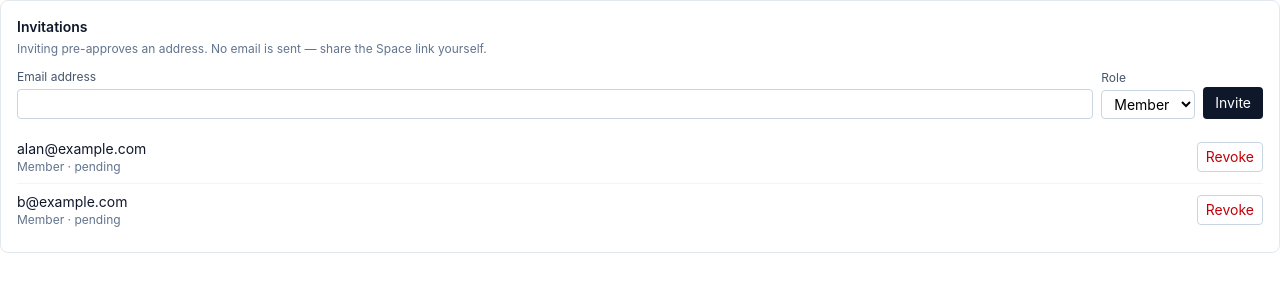
Test: InvitationsPanel › keeps a failed revoke next to its own row
The image size is (1280, 294).
Click the button with test id "invitation-revoke-20": [1230, 157] box [1197,142,1263,172]
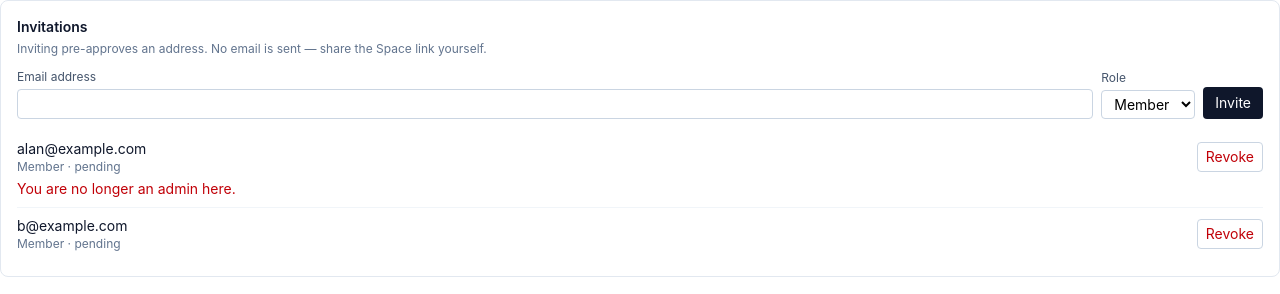
expect the message with test id "invitation-error-20" reads "You are no longer an admin here.": met, box [17,180,236,197]
